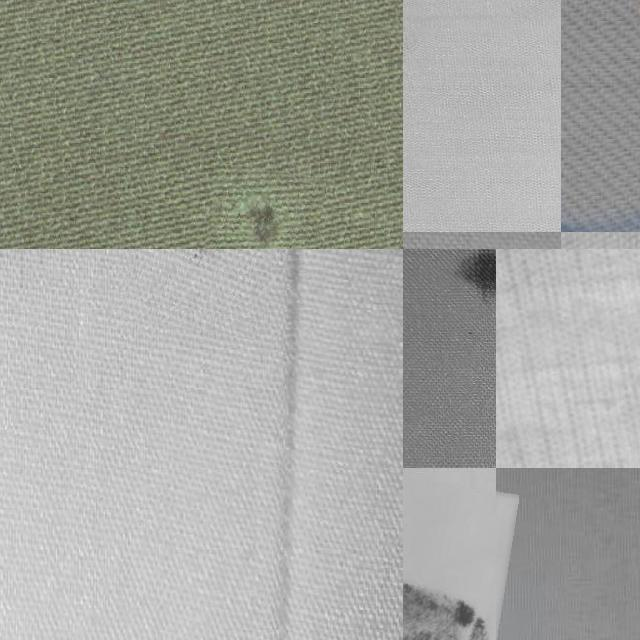Thread_other: (403, 456, 507, 640), (127, 249, 284, 335), (403, 503, 496, 640), (429, 249, 496, 331)
other: (207, 165, 324, 249)
